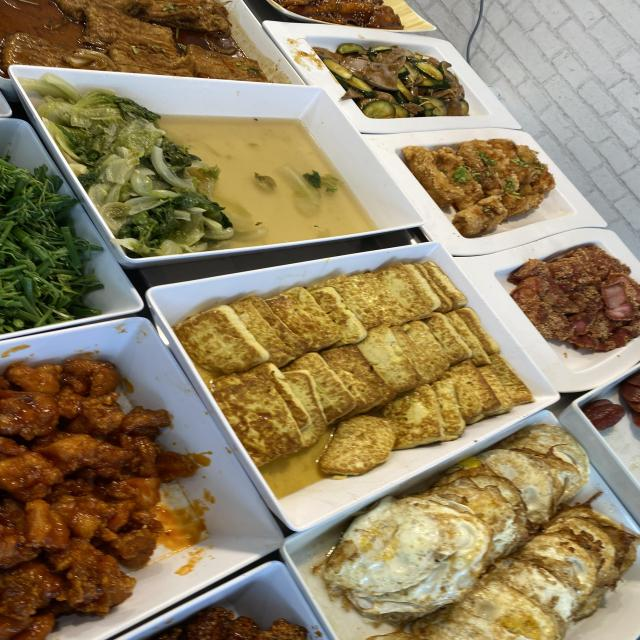Fushan-lettuce: (100, 115, 210, 222)
Pan Fried Tofu: (246, 302, 464, 438)
